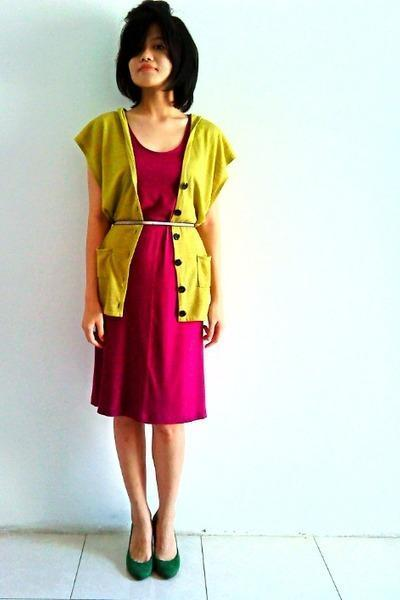dress: (91, 130, 206, 424)
jacket: (75, 108, 234, 326)
shoe: (126, 539, 179, 580)
